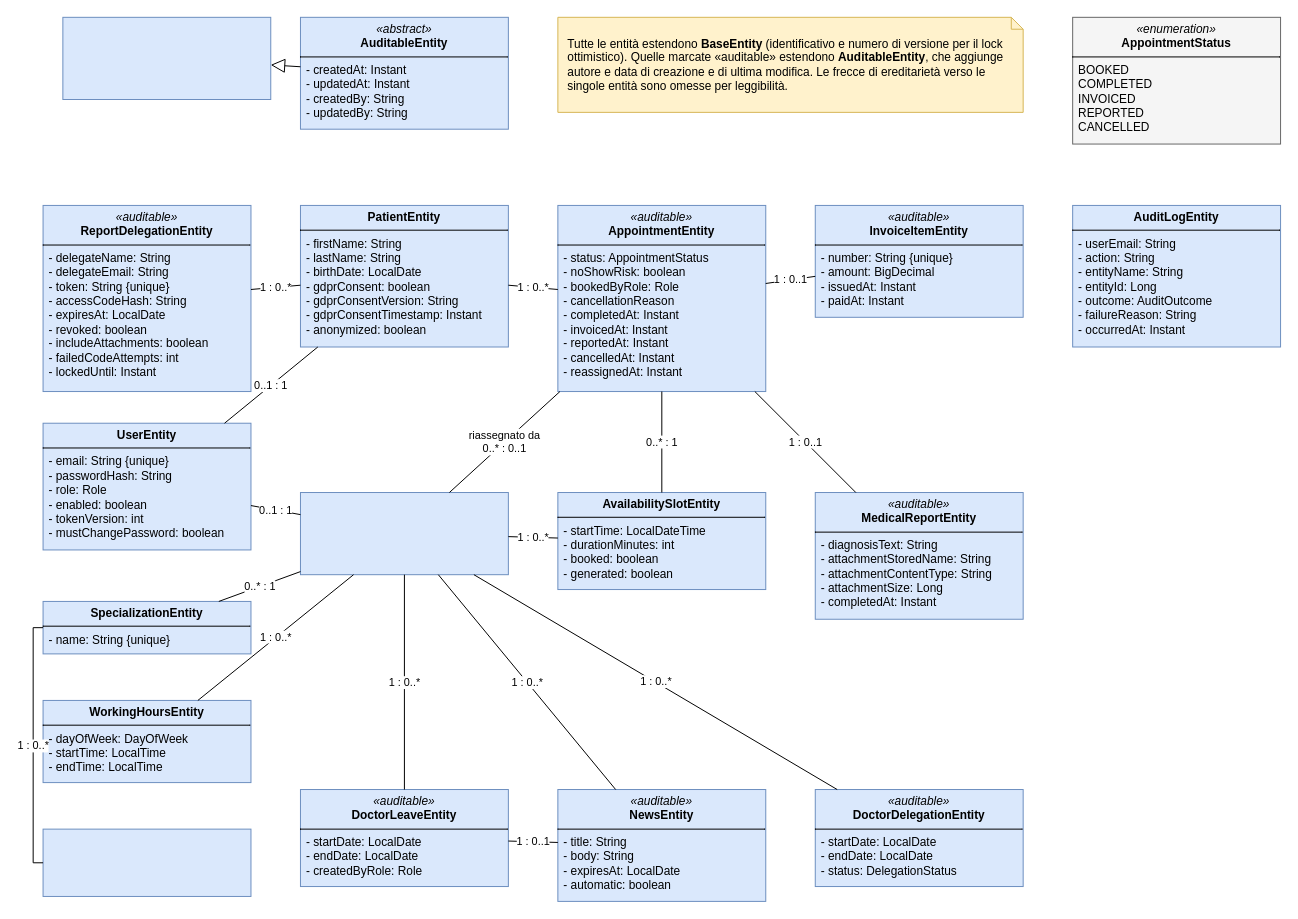
The diagram is 1298 pixels wide and 919 high, and some of its shapes have lost their labels. The shapes that lost their labels are listed below. From the top down, each one's box as (x1, y1, x2, y2) in pixels, then its label:
(62, 16, 271, 99): «abstract» BaseEntity - id: Long - version: Long {@Version}
(299, 492, 508, 575): DoctorEntity - firstName: String - lastName: String - delegationConsent: boolean
(42, 828, 251, 896): PriceListEntity - visitType: String - price: BigDecimal
